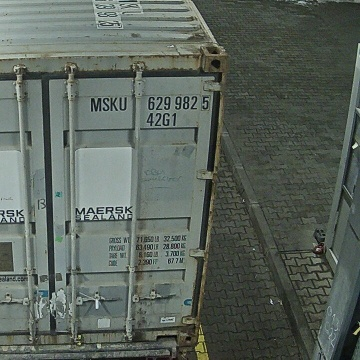serial_id: (91, 96, 209, 111)
